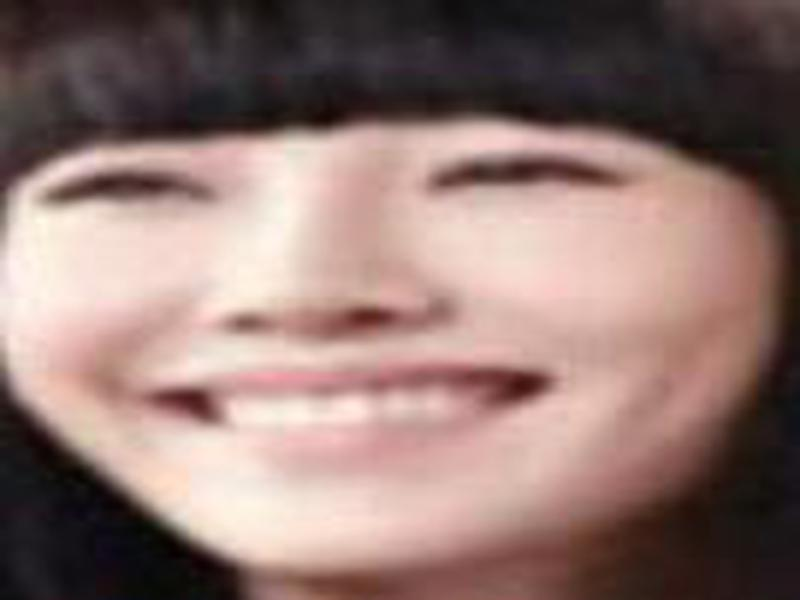without_mask: (2, 108, 778, 578)
